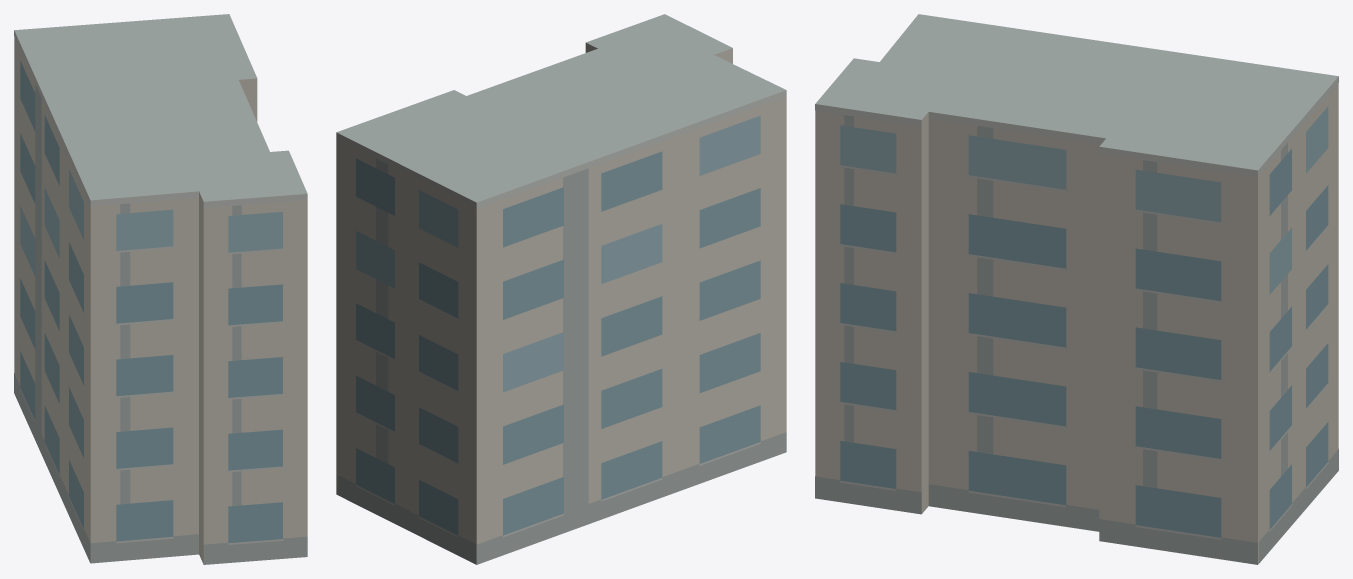
The model's file is survey-upis-32841986.glb.
The picture shows the model from 3 angles, left to right: view 1: azimuth 30°, elevation 25°; view 2: azimuth 150°, elevation 25°; view 3: azimuth 270°, elevation 25°; orthographic projection. The views are drawn at different scales.
Parts seen in each view (by area): view 1: survey-upis-32841986.tmp; view 2: survey-upis-32841986.tmp; view 3: survey-upis-32841986.tmp.
Boxes of the visible parts, x1=… form: survey-upis-32841986.tmp: x1=14, y1=14, x2=307, y2=564; survey-upis-32841986.tmp: x1=336, y1=14, x2=786, y2=564; survey-upis-32841986.tmp: x1=815, y1=14, x2=1338, y2=564.
Bounding box in the file's own units: 12.09 × 14.2 × 17.1.
